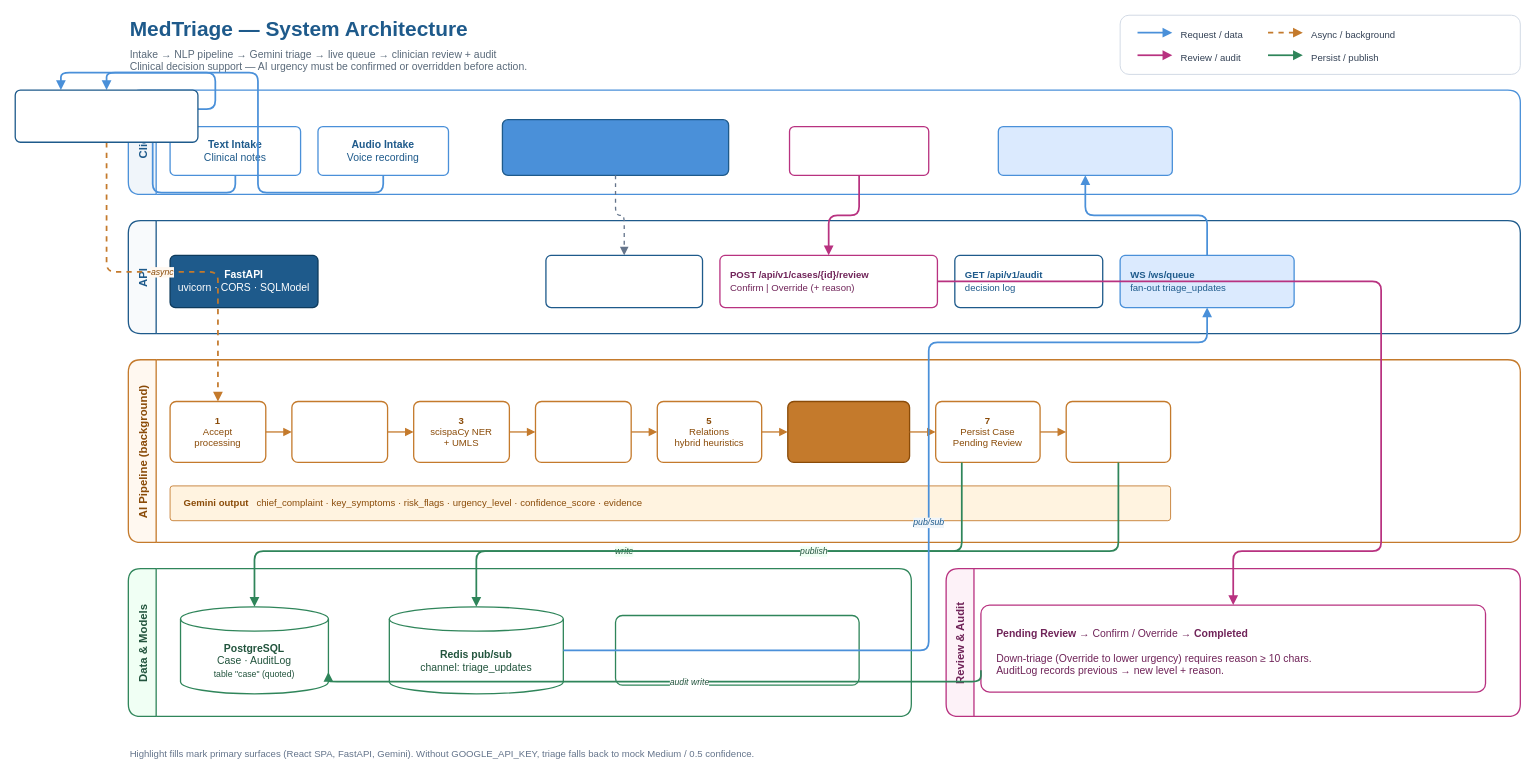
This 1536x779 diagram has some shape labels left out. The shapes that lost their labels are listed below. From the top down, each one's centre as x and y in pixels, then its label:
At point 106,116: "POST /api/v1/intake multipart · returns processing".
At point 615,147: "React SPA · localhost:3000 Queue · Cases · Audit · Intake".
At point 858,151: "Clinician Confirm / Override".
At point 1085,151: "WebSocket Client /ws/queue · live updates".
At point 624,281: "GET /api/v1/cases queue / history".
At point 339,431: "2 Whisper STT (if audio)".
At point 582,431: "4 De-ID PII protect clinical".
At point 848,431: "6 · Gemini Structured triage JSON".
At point 1118,431: "8 Publish triage_updates".
At point 736,649: "Local ML weights Whisper · scispaCy · ClinicalBERT".
